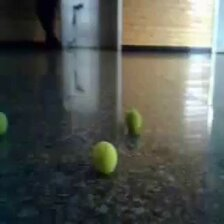tennis: (91, 141, 118, 177), (125, 109, 143, 138)
